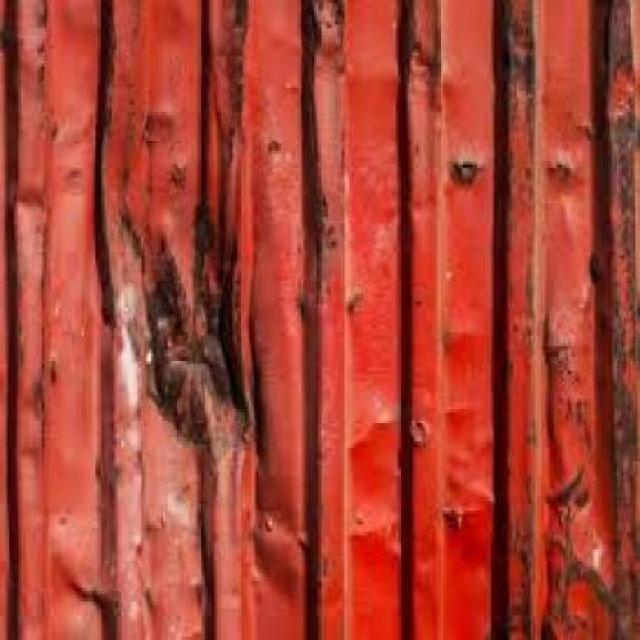Dent: (94, 99, 271, 484)
Minor-Dent: (249, 494, 309, 611), (51, 557, 125, 640), (346, 495, 402, 556), (12, 182, 45, 243)
Rust: (143, 199, 252, 473), (606, 0, 640, 640), (485, 474, 597, 640), (502, 162, 540, 453), (545, 466, 617, 619), (299, 0, 328, 302), (539, 309, 593, 454), (94, 2, 117, 329), (499, 0, 535, 158), (220, 0, 249, 182), (401, 0, 441, 112), (35, 0, 51, 100), (252, 356, 263, 456), (451, 157, 485, 186), (329, 0, 344, 58), (586, 249, 603, 286), (554, 152, 577, 173)
